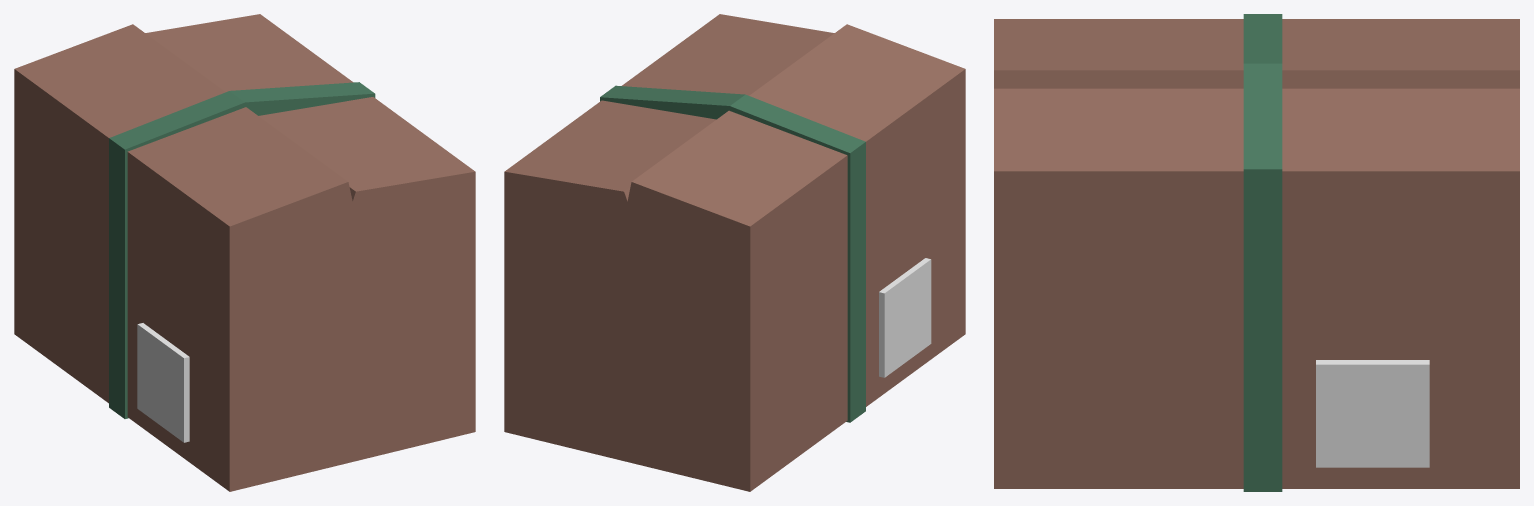
3 views of the same model, side by side, from view 1: azimuth 30°, elevation 25°; view 2: azimuth 150°, elevation 25°; view 3: azimuth 270°, elevation 25° (orthographic). The views are drawn at different scales.
Visible parts, largest first — view 1: Box_1_mesh; view 2: Box_1_mesh; view 3: Box_1_mesh.
Part boxes in pixels (<box>): Box_1_mesh: <box>14,14,475,491</box>; Box_1_mesh: <box>504,14,965,491</box>; Box_1_mesh: <box>994,14,1519,491</box>.
Bounding box in the file's own units: 0.408 × 0.4325 × 0.5875.
1 material, 1 textured.
